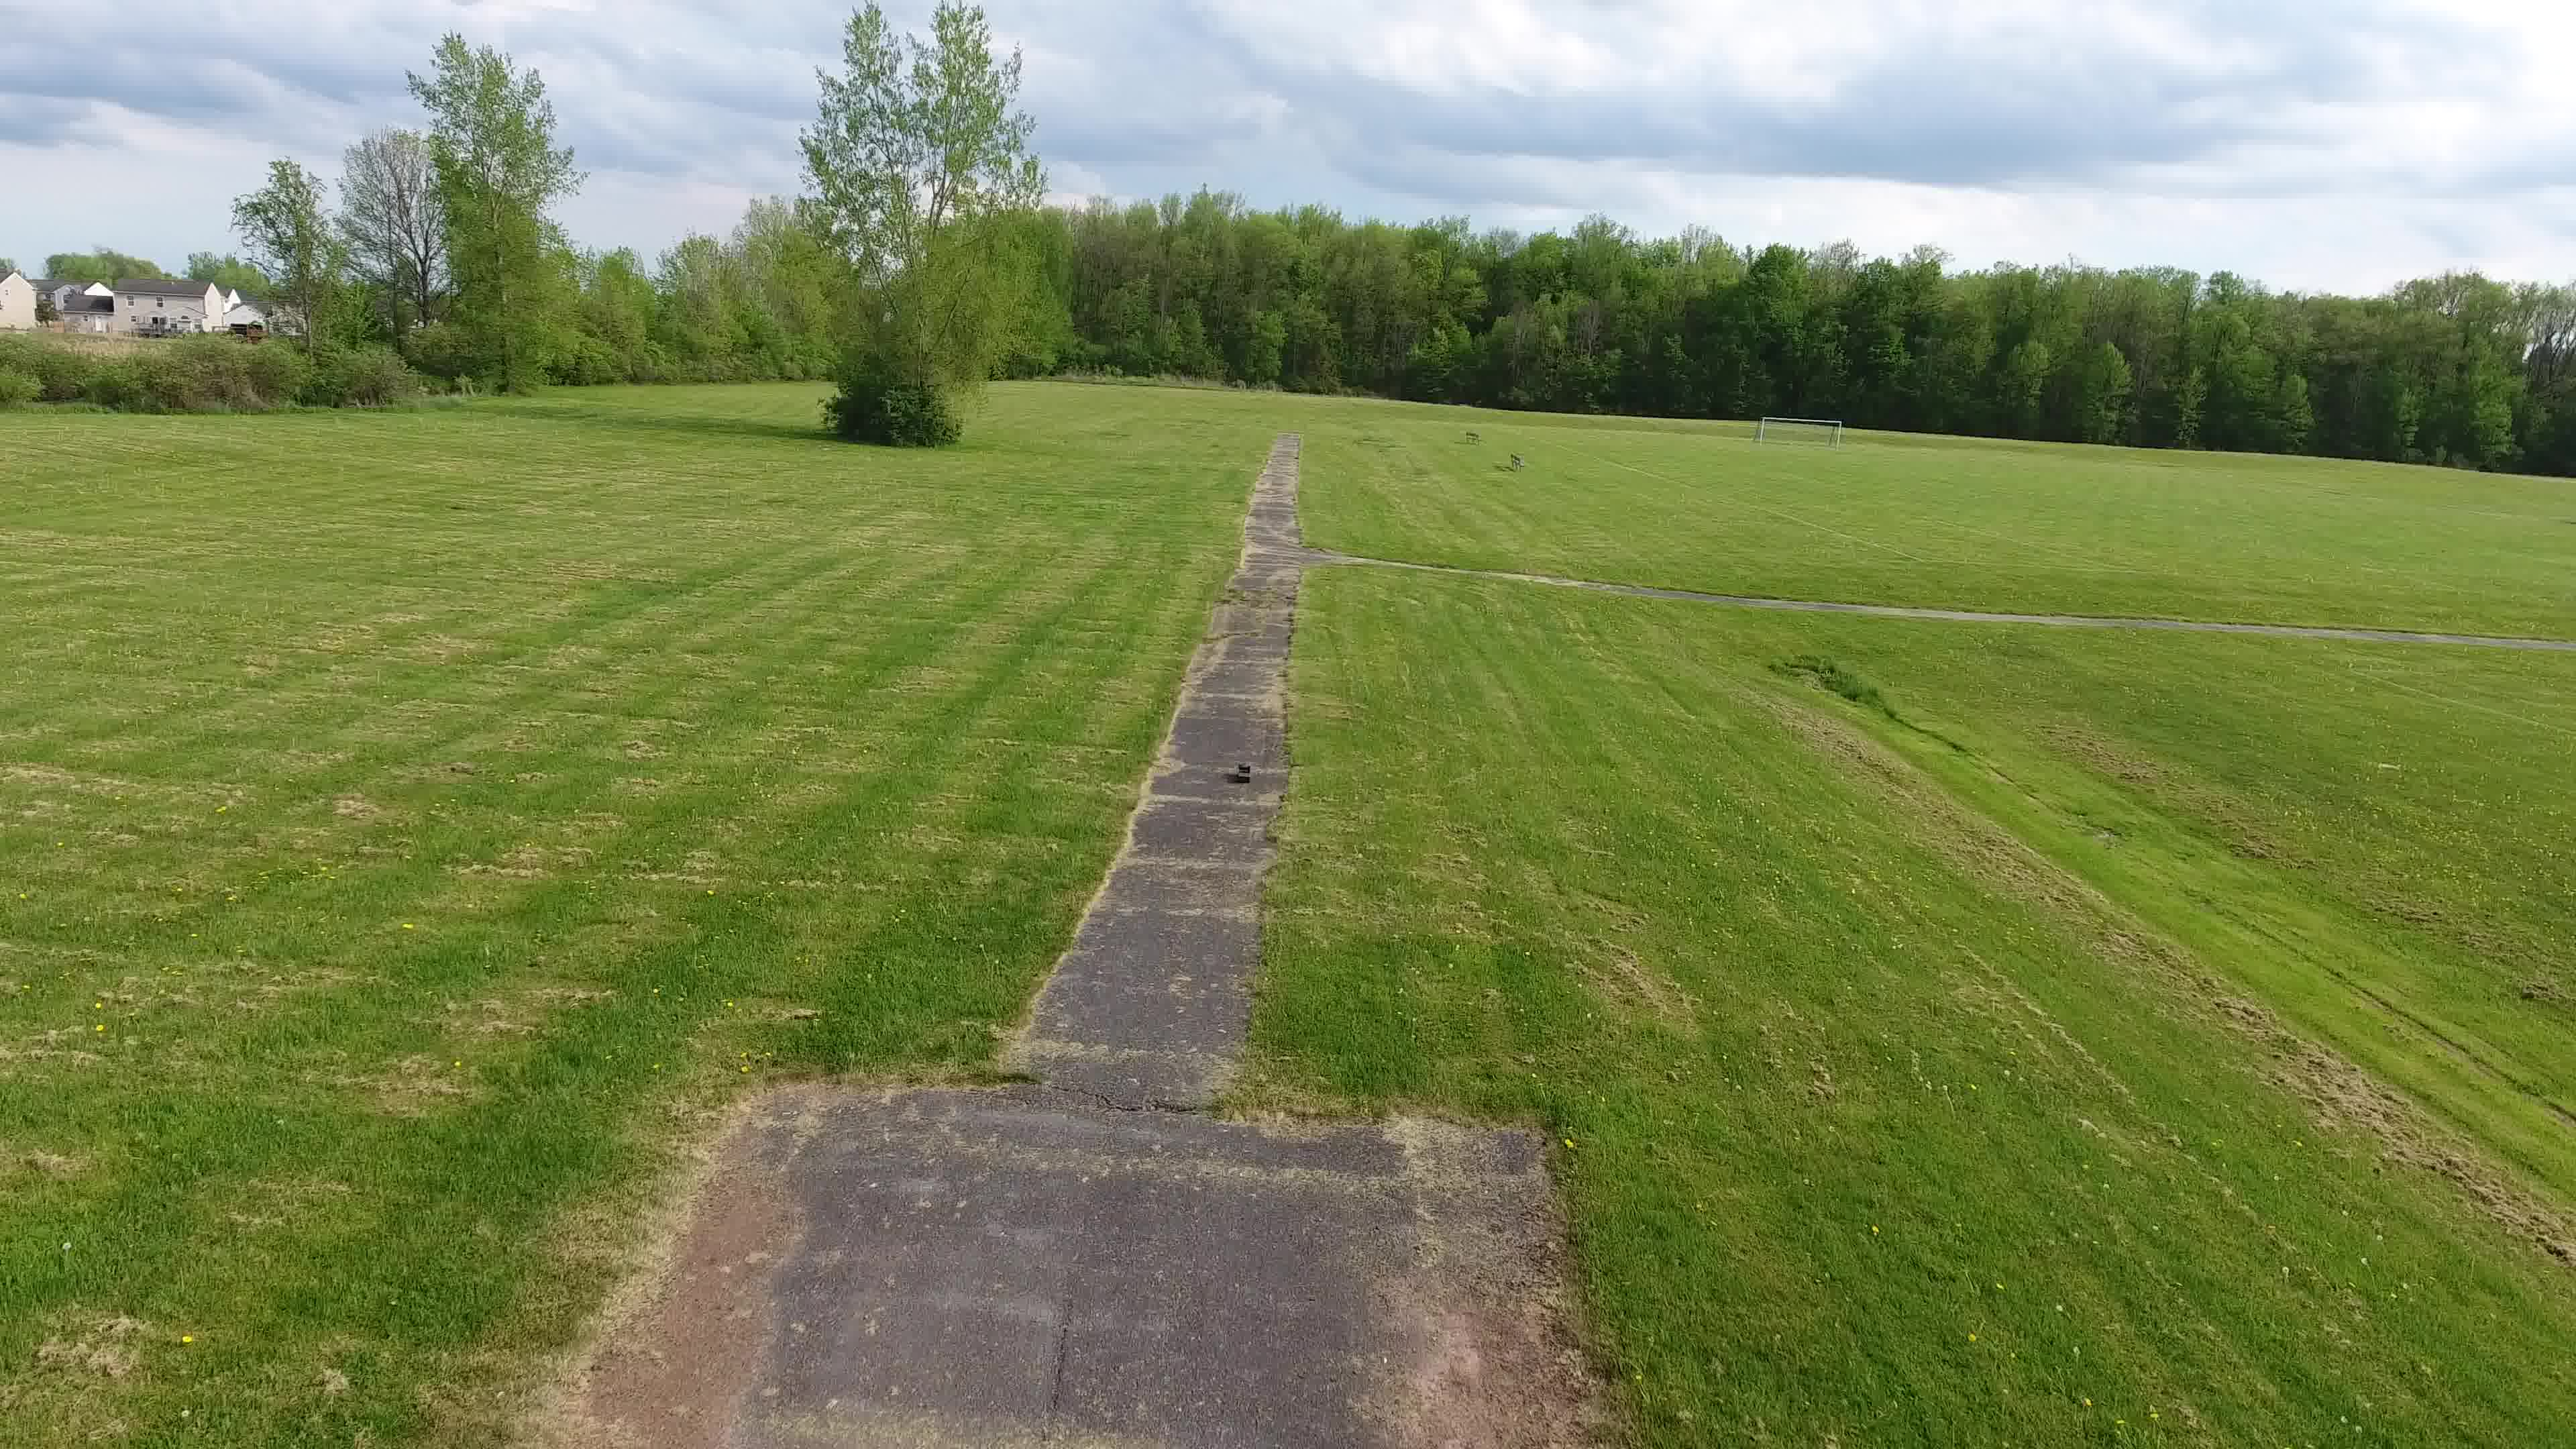transporter9_camo: (1235, 761, 1251, 784)
